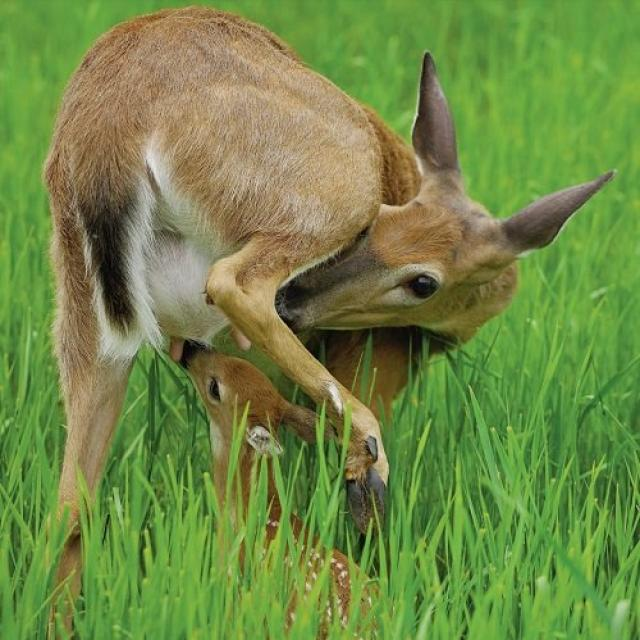not_pig: (38, 2, 616, 638)
